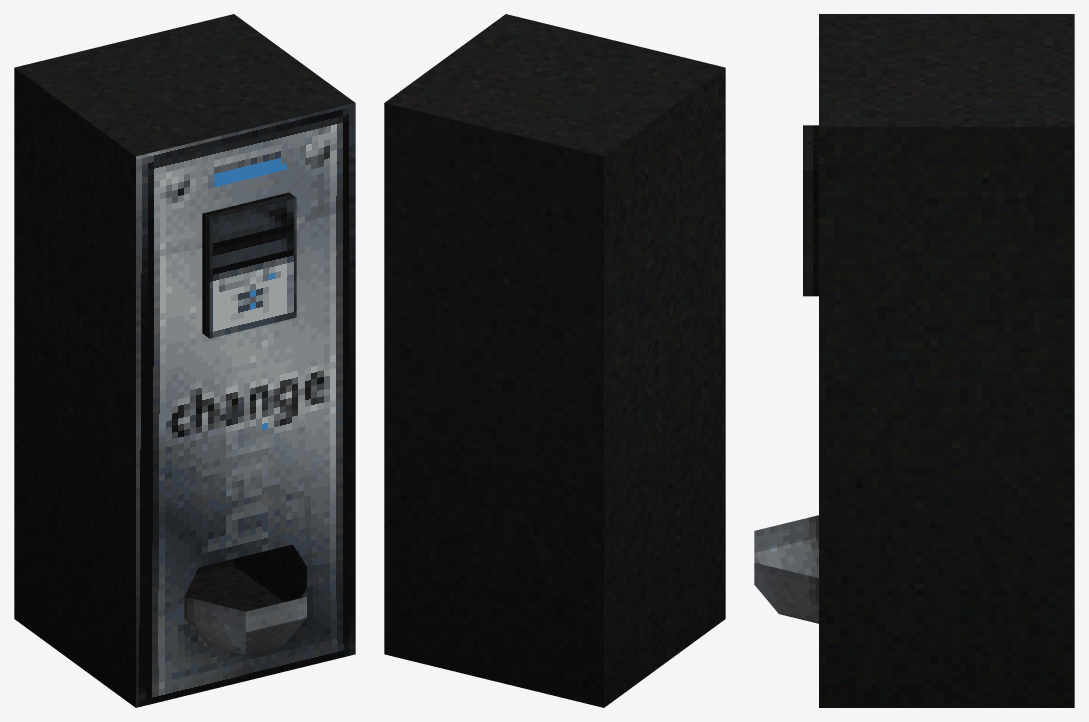
File: coin-changer.glb
3 views of the same model, side by side, from view 1: azimuth 30°, elevation 25°; view 2: azimuth 150°, elevation 25°; view 3: azimuth 270°, elevation 25° (orthographic). The views are drawn at different scales.
Visible parts, largest first — view 1: coin-changer-col; view 2: coin-changer-col; view 3: coin-changer-col.
Boxes of the visible parts, box(x1,y1,x2,y2) form: coin-changer-col: box(14, 14, 355, 707); coin-changer-col: box(384, 14, 725, 707); coin-changer-col: box(754, 14, 1074, 707).
Size of the model in its own units: 0.2223 by 0.5334 by 0.2667.
1 material, 1 textured.
